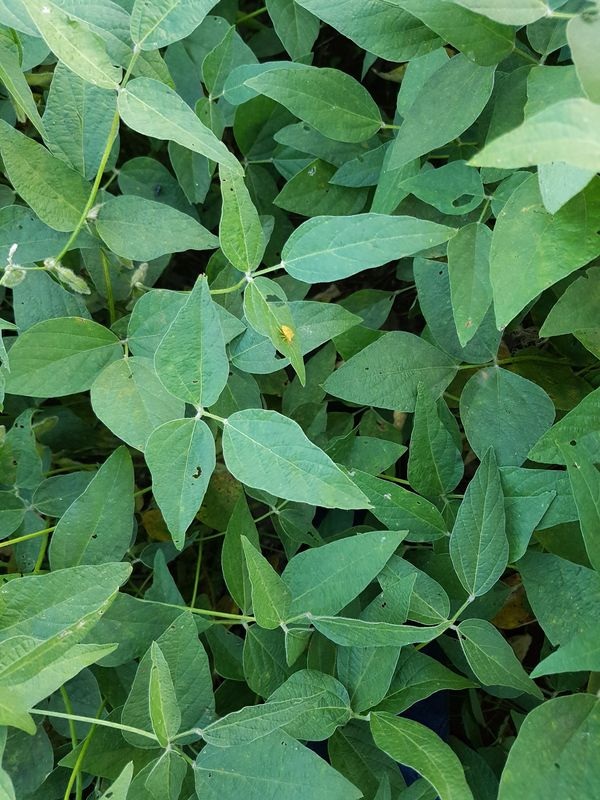Euschistus_heros_ninfa: (272, 321, 301, 347)
